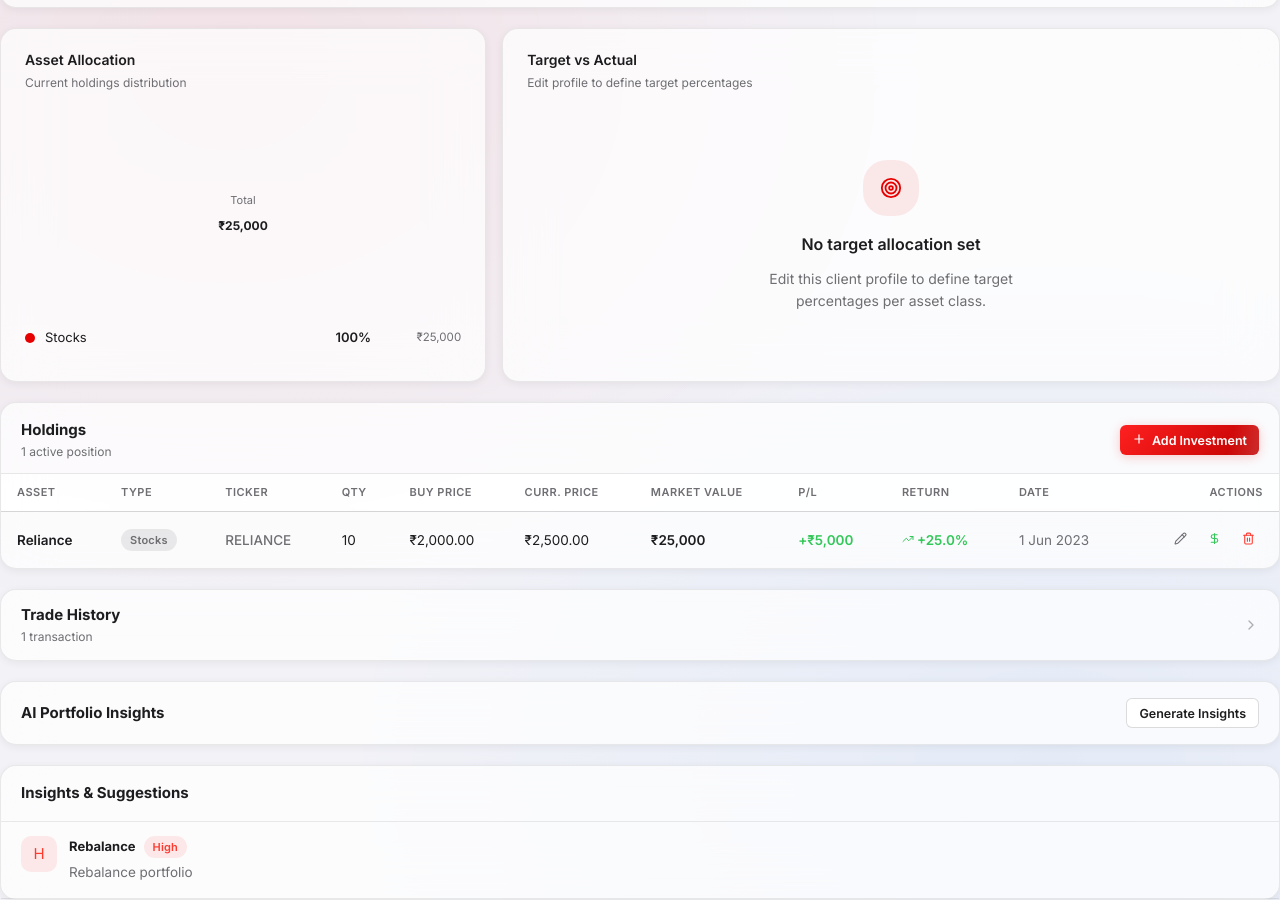
Scenario: CustomerDetailPage — holdings table › opens delete confirm dialog when trash icon clicked
(page scrolled)
Step 1. Click the button named "delete reliance" → x=1248, y=540, box [1233,525,1263,555]
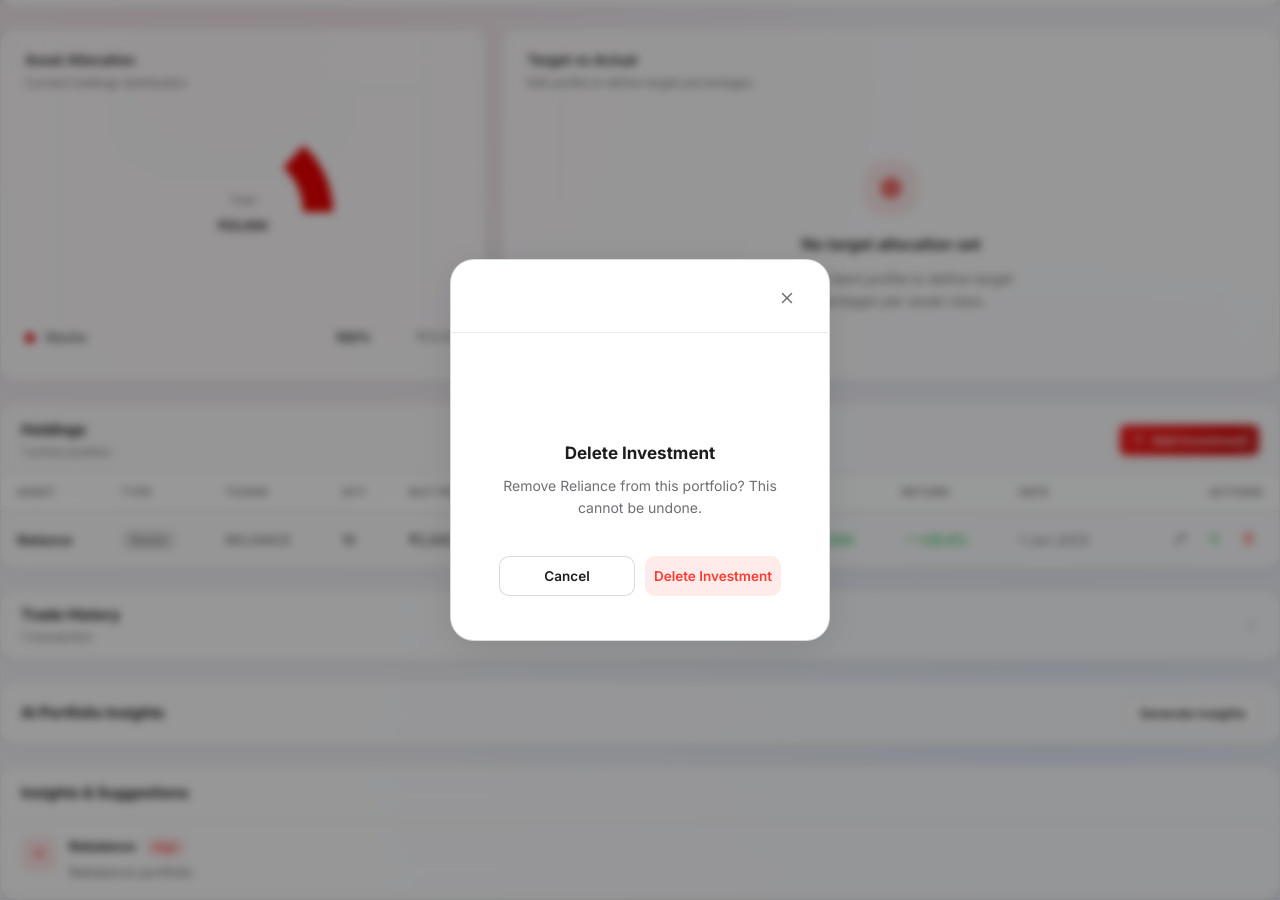
Expected: the text "Delete Investment" is shown, [565,443,715,463]
